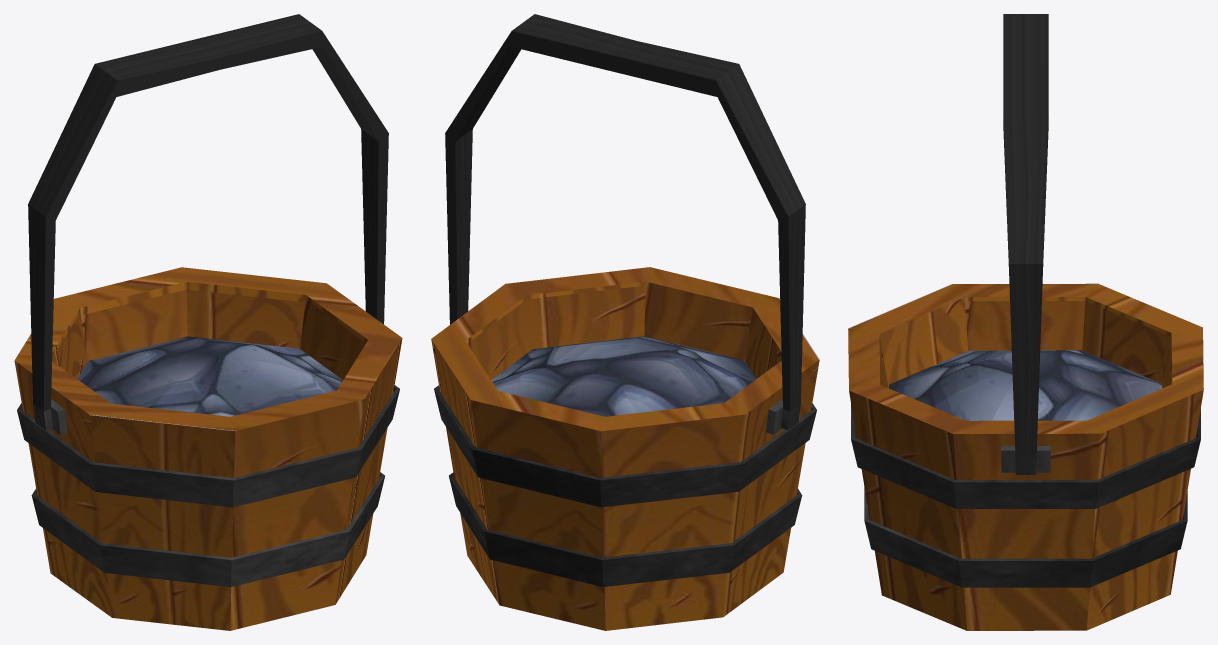
Rendered from Mine_Bucket_Rocks.fbx.
3 renders of one model, left to right at view 1: azimuth 30°, elevation 25°; view 2: azimuth 150°, elevation 25°; view 3: azimuth 270°, elevation 25°, orthographic.
Visible parts, largest first — view 1: Bucket_Rocks; view 2: Bucket_Rocks; view 3: Bucket_Rocks.
Part boxes in pixels (x1,y1,x2,y2): Bucket_Rocks: [14, 14, 402, 630]; Bucket_Rocks: [431, 14, 819, 630]; Bucket_Rocks: [848, 14, 1203, 630].
Size of the model in its own units: 56.18 by 80.84 by 51.42.
